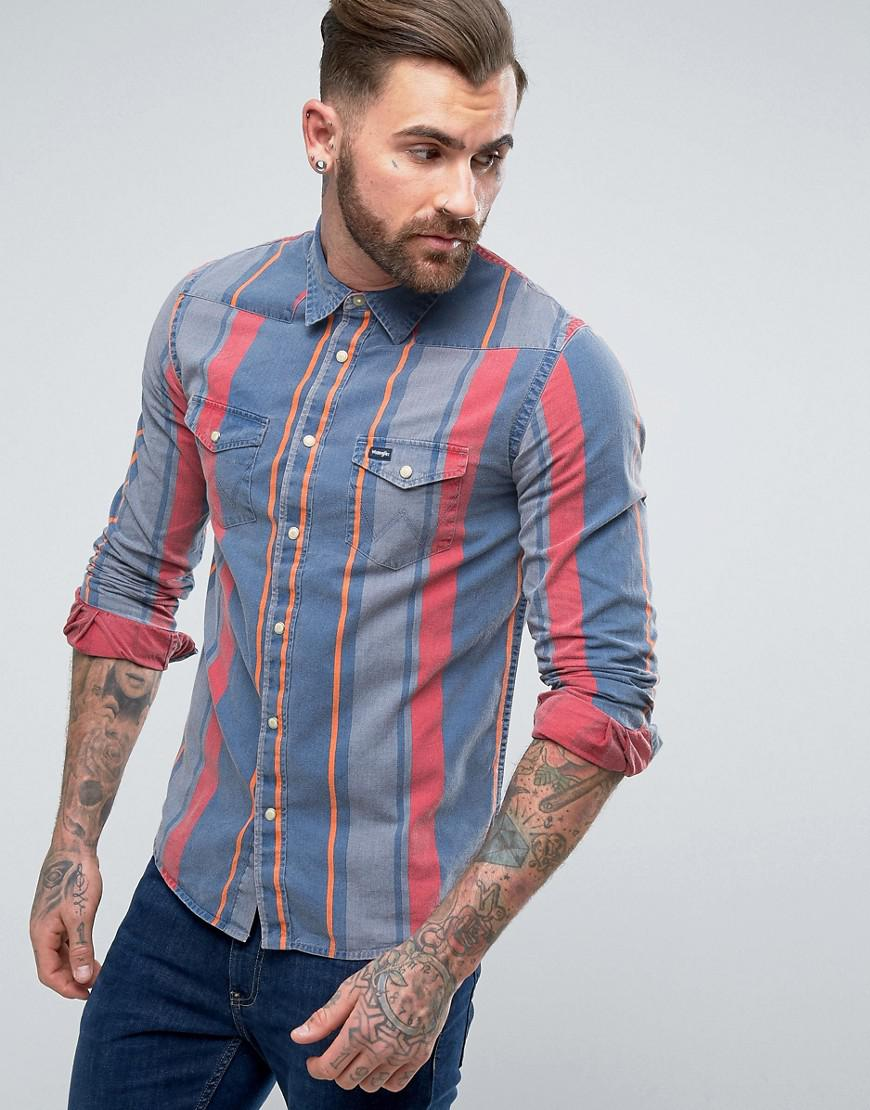teeshirt: (71, 229, 664, 973)
